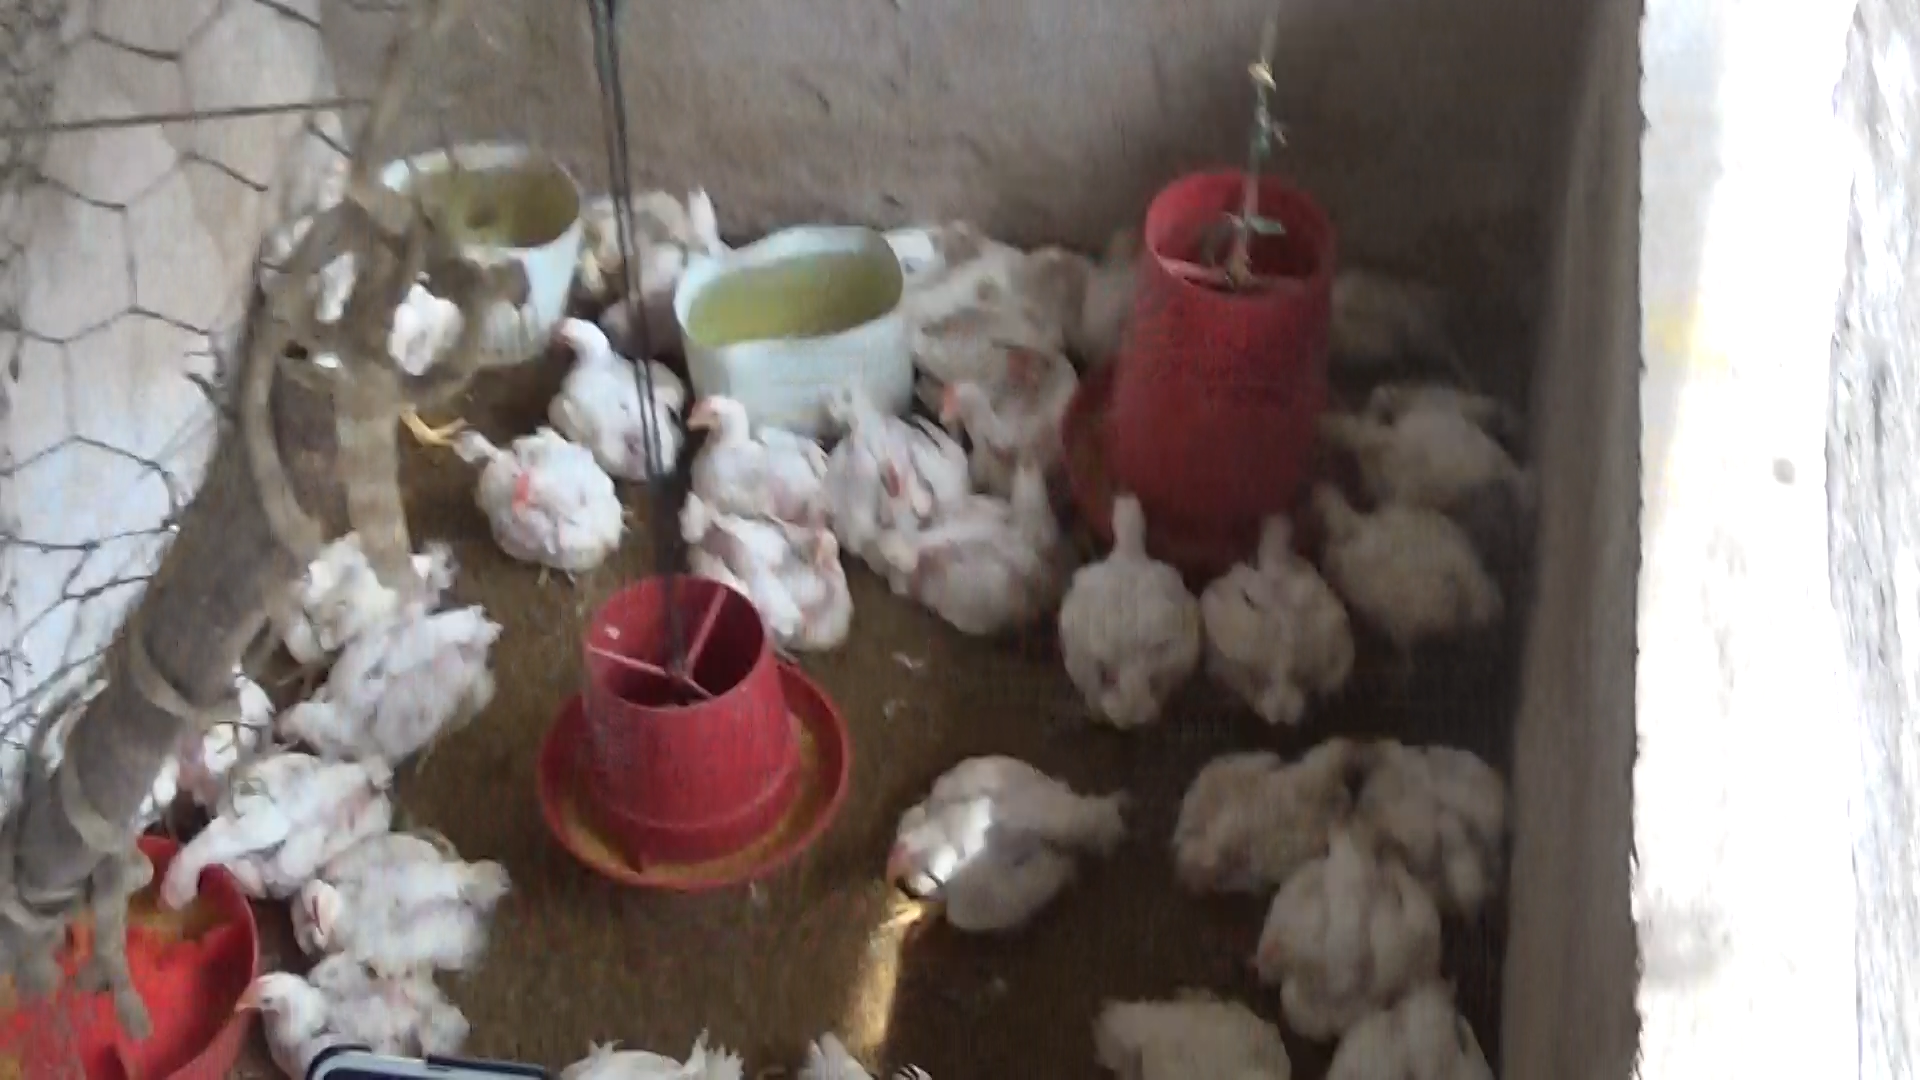Pollos: (870, 748, 1139, 942), (1240, 812, 1447, 1036), (135, 738, 400, 911), (1187, 495, 1360, 738), (270, 603, 514, 775), (1056, 487, 1205, 746), (277, 829, 526, 984), (1162, 738, 1385, 902), (671, 488, 851, 687), (1311, 473, 1513, 649), (200, 953, 476, 1079), (1313, 372, 1534, 512), (446, 431, 632, 593), (804, 367, 957, 542), (926, 342, 1071, 495), (539, 309, 673, 469), (682, 378, 822, 517)
